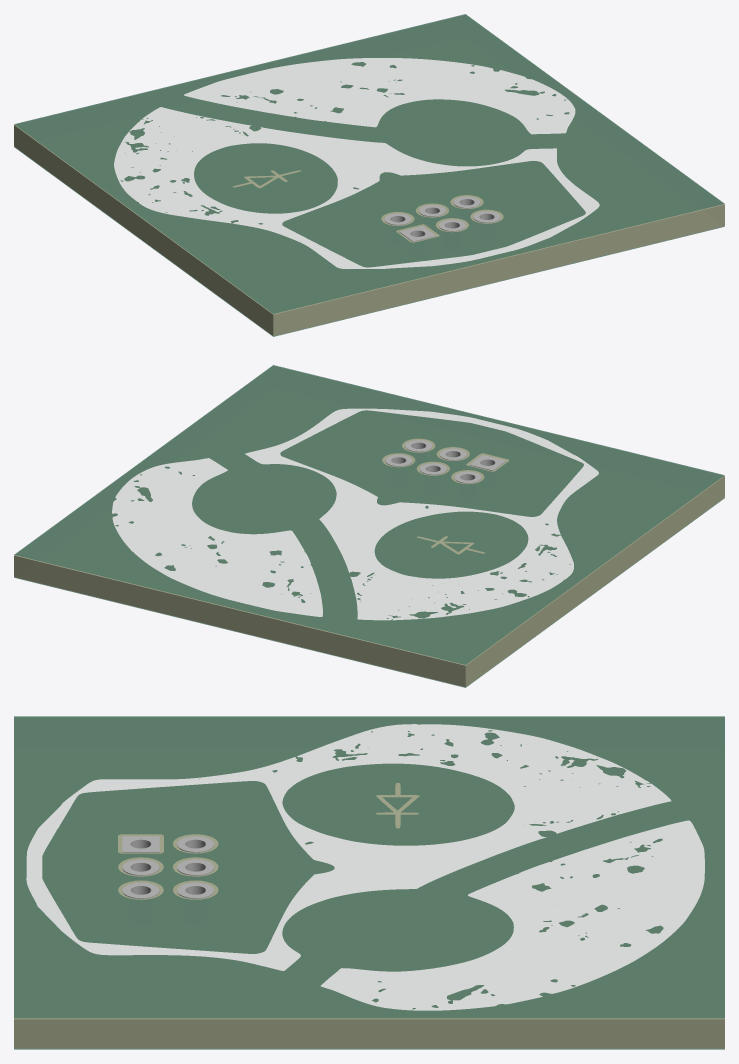
The model's file is sao-badgepirates.glb.
3 views of the same model, one above another, from view 1: azimuth 30°, elevation 25°; view 2: azimuth 150°, elevation 25°; view 3: azimuth 270°, elevation 25° (orthographic). The views are drawn at different scales.
Visible parts, largest first — view 1: =>[0:1:1:8], =>[0:1:1:6], =>[0:1:1:4], =>[0:1:1:2]; view 2: =>[0:1:1:8], =>[0:1:1:6], =>[0:1:1:4], =>[0:1:1:2]; view 3: =>[0:1:1:8], =>[0:1:1:6], =>[0:1:1:4], =>[0:1:1:2].
Boxes of the visible parts, x1,y1,x2,y2 form: =>[0:1:1:8]: (14,15,724,335); =>[0:1:1:6]: (14,14,724,336); =>[0:1:1:4]: (114,58,599,269); =>[0:1:1:2]: (384,196,500,241); =>[0:1:1:8]: (14,366,724,686); =>[0:1:1:6]: (14,365,724,687); =>[0:1:1:4]: (112,408,598,620); =>[0:1:1:2]: (385,440,505,483); =>[0:1:1:8]: (14,718,724,1048); =>[0:1:1:6]: (14,716,724,1049); =>[0:1:1:4]: (26,724,704,1010); =>[0:1:1:2]: (122,836,214,898).
Size of the model in its own units: 0.0332 by 0.00166 by 0.033.
4 materials, 4 textured.
